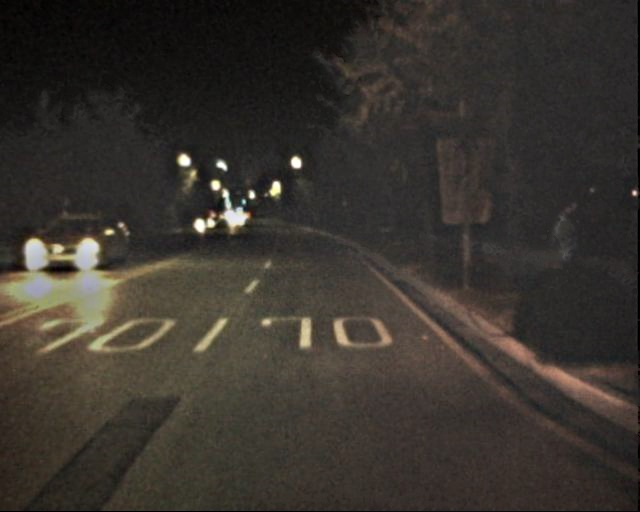person: (548, 209, 582, 291)
